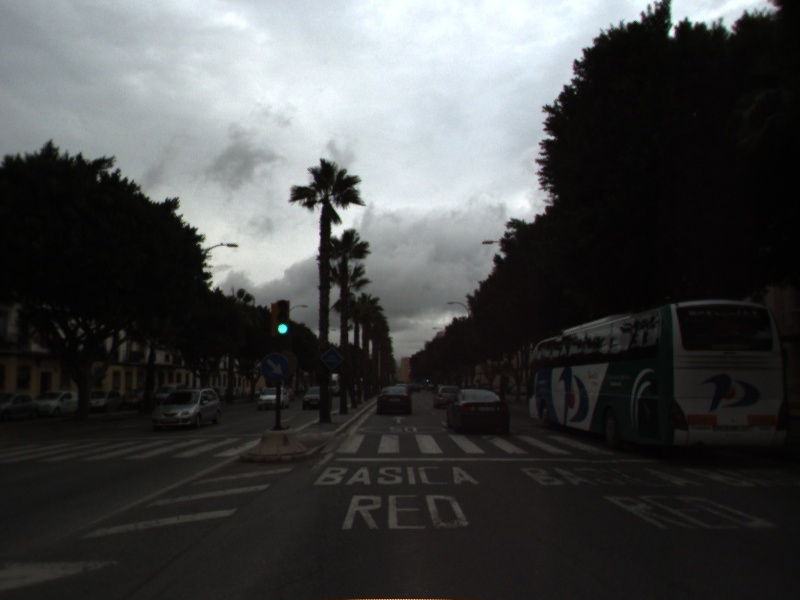STRAIGHT: (389, 413, 409, 426)
